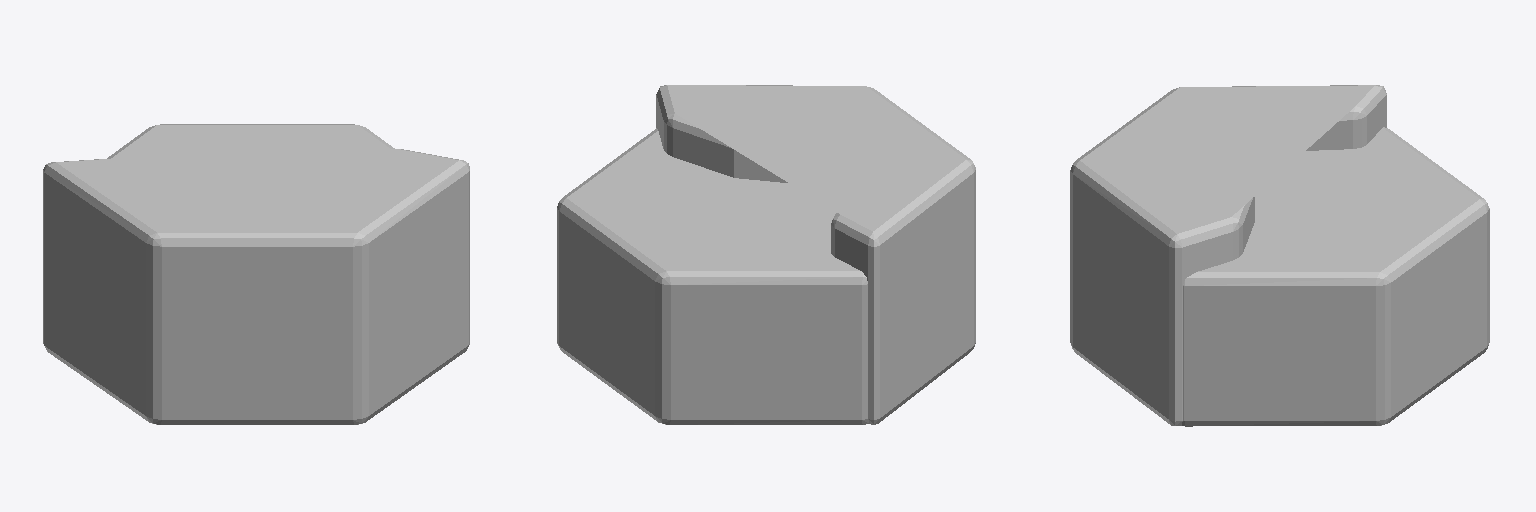
File: grass_water2.obj
3 renders of one model, left to right at view 1: azimuth 30°, elevation 25°; view 2: azimuth 150°, elevation 25°; view 3: azimuth 270°, elevation 25°, orthographic.
Parts seen in each view (by area): view 1: grass_water2; view 2: grass_water2; view 3: grass_water2.
Boxes of the visible parts, <box> form: grass_water2: <box>43,124,469,424</box>; grass_water2: <box>557,85,975,424</box>; grass_water2: <box>1070,85,1489,426</box>.
Size of the model in its own units: 7.04 by 4 by 7.9.